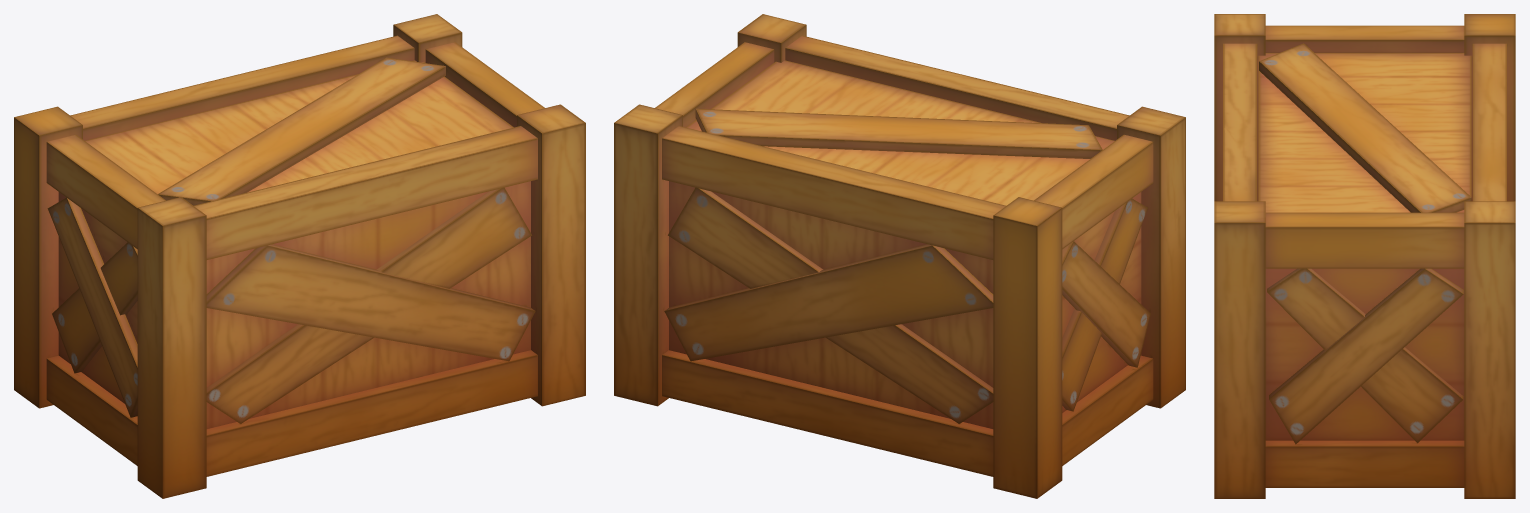
Rendered from Cracked Box_low (1).fbx.
3 renders of one model, left to right at view 1: azimuth 30°, elevation 25°; view 2: azimuth 150°, elevation 25°; view 3: azimuth 270°, elevation 25°, orthographic.
Parts seen in each view (by area): view 1: polySurface67, polySurface63, polySurface57, polySurface29, polySurface75, polySurface65, polySurface71, polySurface10, polySurface72, polySurface55; view 2: polySurface29, polySurface72, polySurface10, polySurface73, polySurface57, polySurface75, polySurface8, polySurface55, polySurface63, polySurface71, polySurface66, polySurface67 (+1 smaller); view 3: polySurface66, polySurface55, polySurface29, polySurface57, polySurface65, polySurface67, polySurface75, polySurface10, polySurface63.
Part boxes in pixels (x1,y1,x2,y2): polySurface67: (282, 126, 585, 449); polySurface63: (137, 215, 399, 498); polySurface57: (70, 100, 407, 259); polySurface29: (107, 35, 513, 169); polySurface75: (46, 134, 206, 465); polySurface65: (475, 87, 585, 373); polySurface71: (46, 197, 124, 435); polySurface10: (14, 106, 82, 280); polySurface72: (14, 236, 58, 408); polySurface55: (393, 14, 515, 98); polySurface29: (662, 60, 969, 243); polySurface72: (751, 308, 1062, 498); polySurface10: (765, 197, 1062, 369); polySurface73: (668, 187, 993, 428); polySurface57: (837, 76, 1129, 259); polySurface75: (1034, 106, 1185, 434); polySurface8: (662, 181, 844, 422); polySurface55: (614, 66, 740, 301); polySurface63: (1141, 183, 1185, 408); polySurface71: (1062, 241, 1114, 465); polySurface66: (614, 242, 668, 406); polySurface67: (785, 35, 966, 97); polySurface66: (1265, 297, 1515, 498); polySurface55: (1265, 201, 1515, 404); polySurface29: (1258, 61, 1506, 212); polySurface57: (1223, 43, 1506, 178); polySurface65: (1214, 201, 1376, 422); polySurface67: (1214, 127, 1265, 498); polySurface75: (1214, 14, 1464, 132); polySurface10: (1464, 14, 1515, 190); polySurface63: (1214, 114, 1258, 201).
Size of the model in its own units: 47.48 by 29.25 by 28.91.
1 material, 1 textured.
